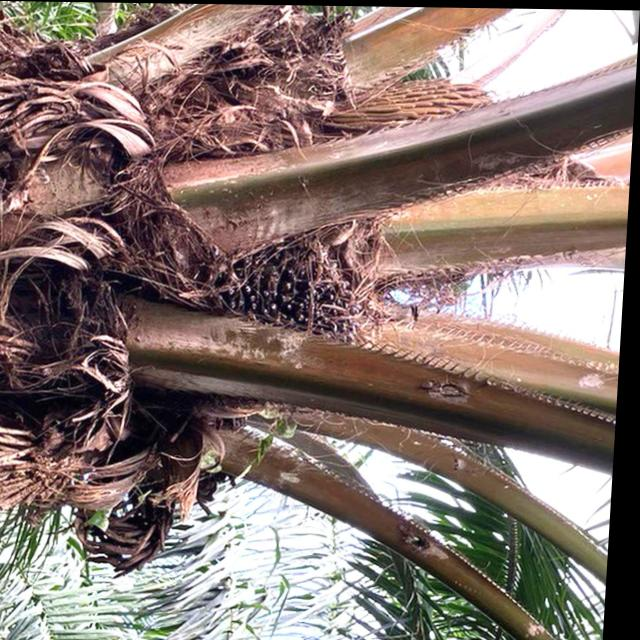almost: (194, 225, 384, 351)
